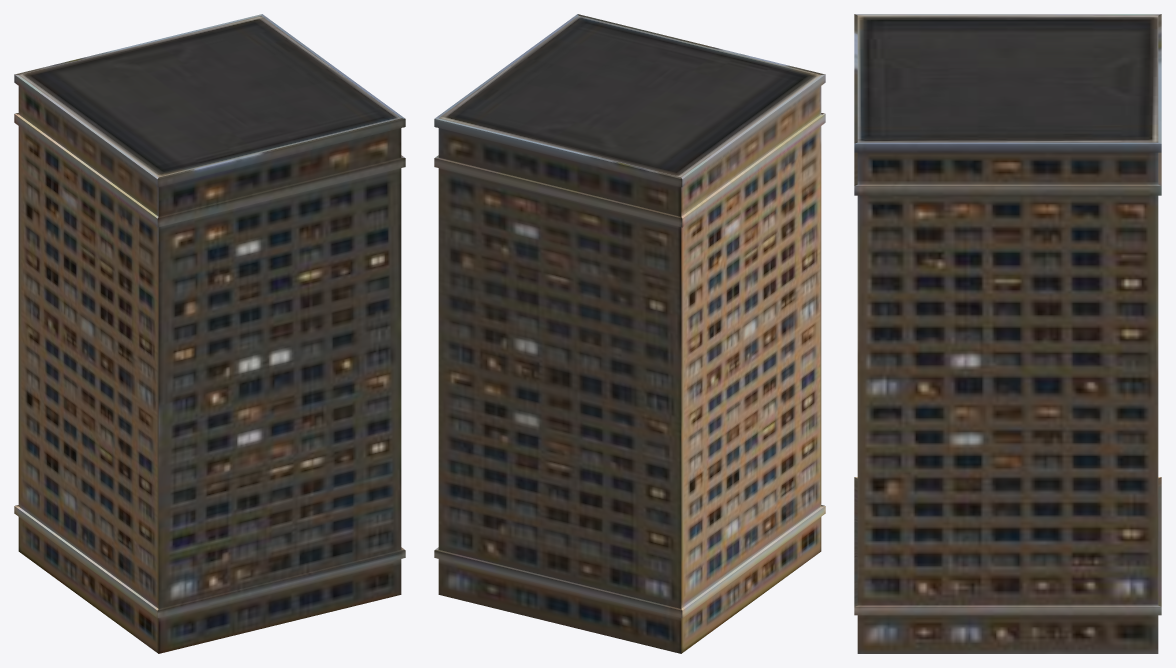
Rendered from Building2.fbx.
3 renders of one model, left to right at view 1: azimuth 30°, elevation 25°; view 2: azimuth 150°, elevation 25°; view 3: azimuth 270°, elevation 25°, orthographic. The views are drawn at different scales.
Parts seen in each view (by area): view 1: Cube.001; view 2: Cube.001; view 3: Cube.001.
Boxes of the visible parts, <box> form: Cube.001: <box>14,14,405,653</box>; Cube.001: <box>434,14,825,653</box>; Cube.001: <box>854,14,1161,653</box>.
Bounding box in the file's own units: 1429 × 2624 × 1429.
Materials: 1 (1 with a texture image).
